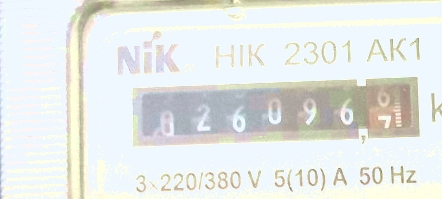0: (263, 93, 284, 129), (155, 105, 176, 138)
2: (191, 100, 213, 136)
6: (228, 101, 248, 136), (336, 93, 355, 127), (372, 82, 392, 110)
7: (375, 111, 393, 133)
9: (299, 95, 319, 127)
screen: (120, 67, 428, 159)
